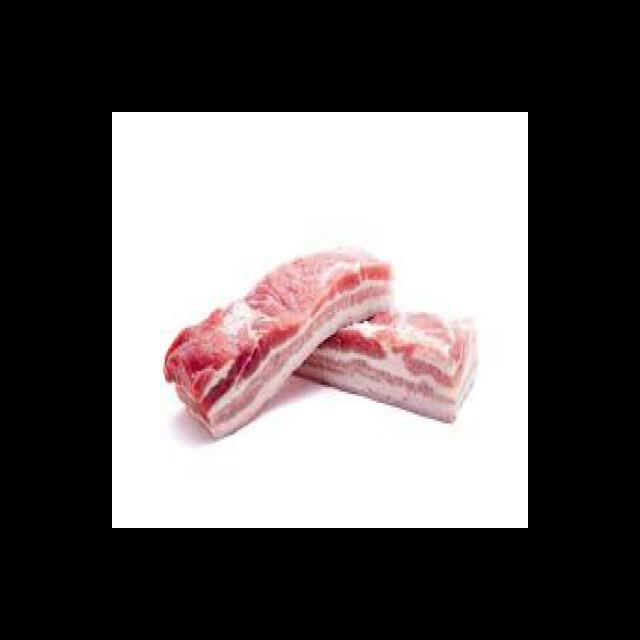pork: (174, 226, 481, 467)
